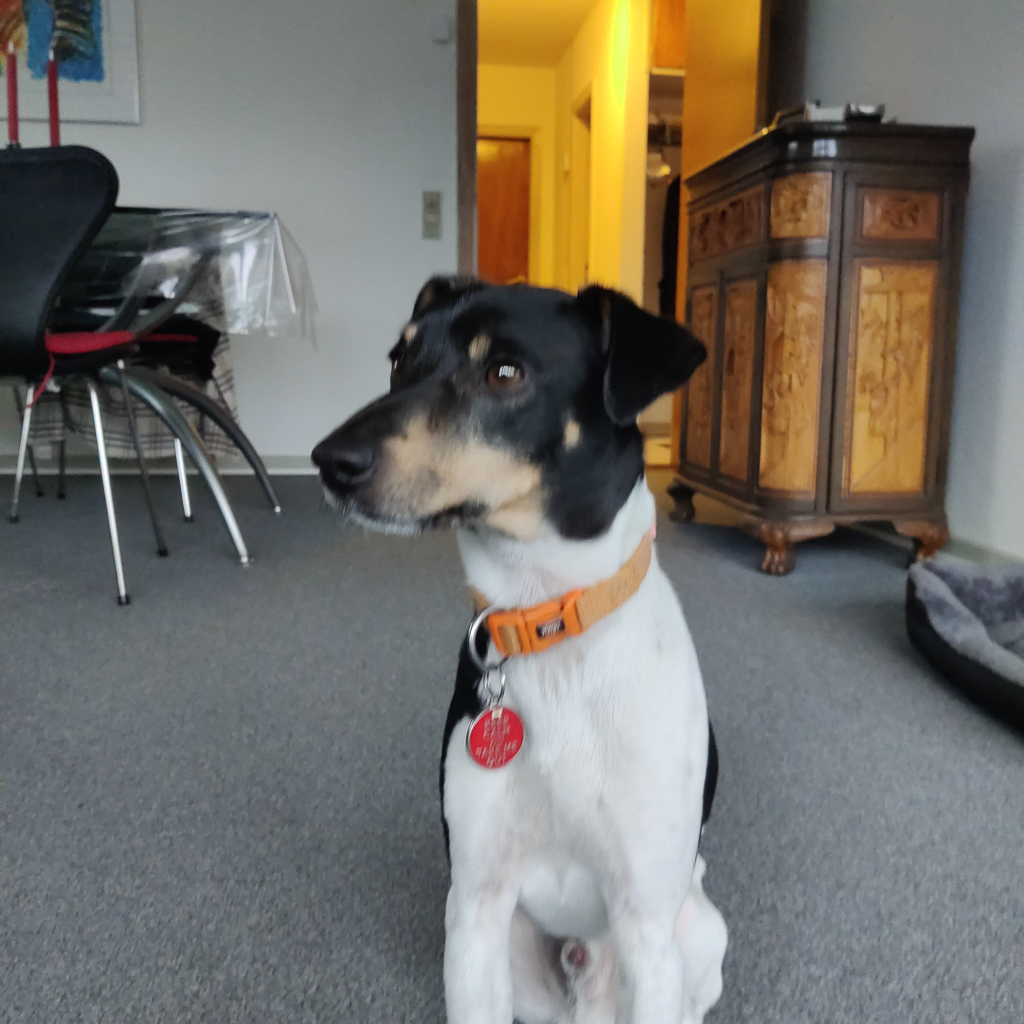Dog: (300, 247, 738, 1024)
